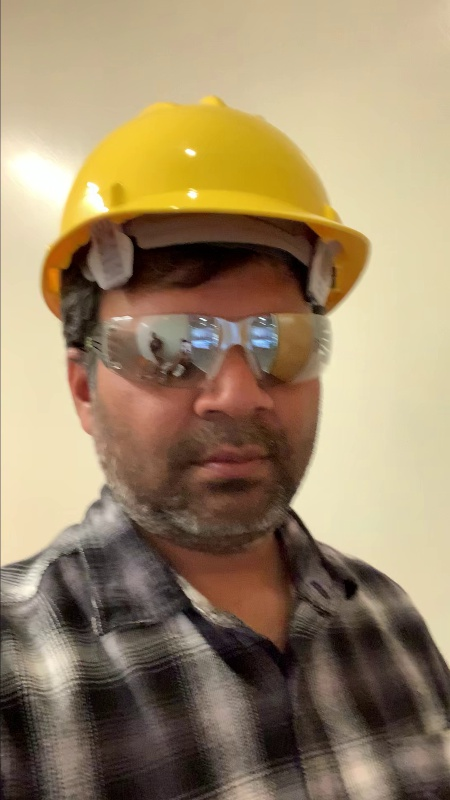glasses: (101, 304, 336, 388)
helmet: (47, 88, 365, 252)
